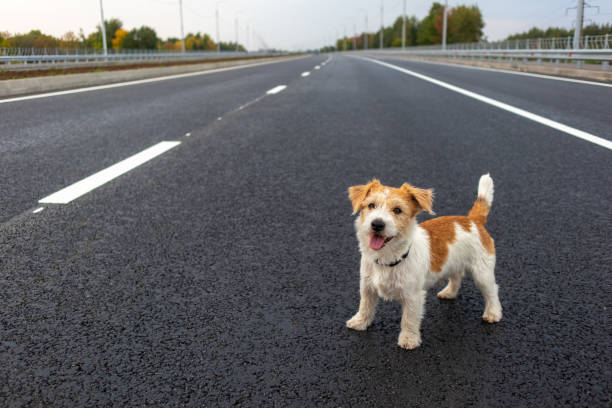kopek: (340, 177, 515, 354)
